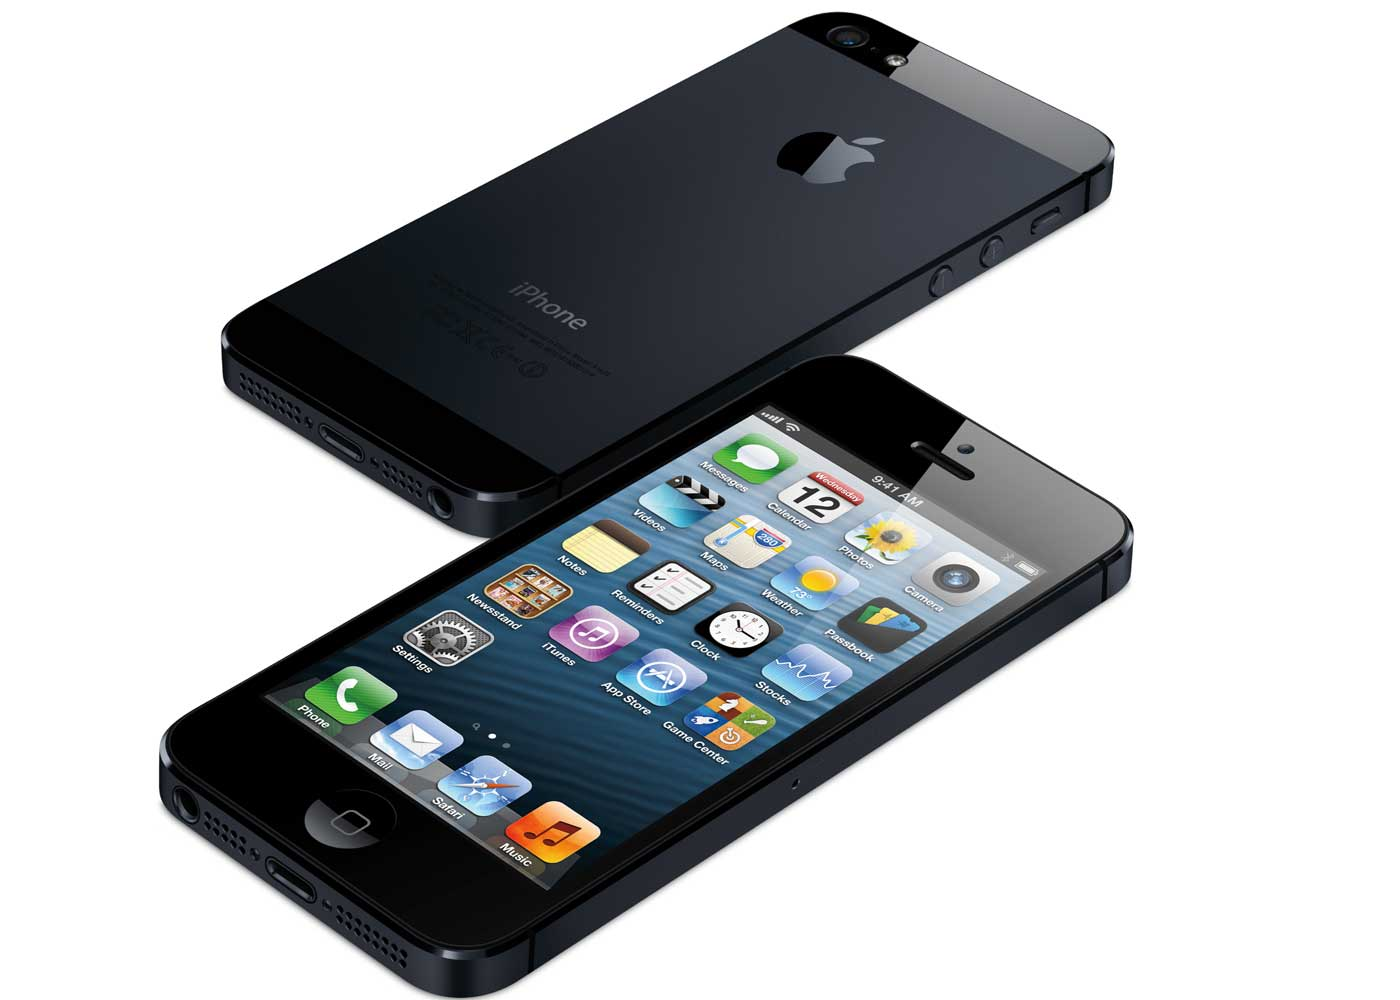Apple: (757, 107, 902, 205)
